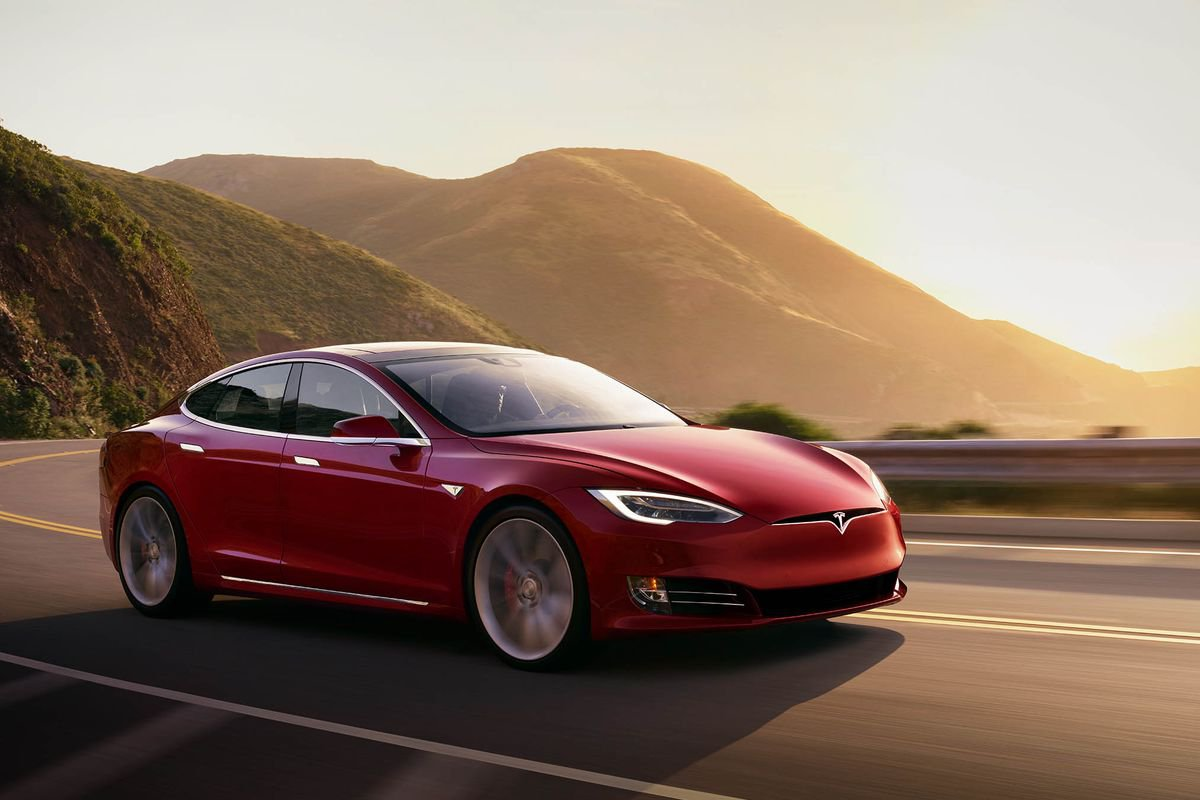car: (94, 333, 923, 675)
